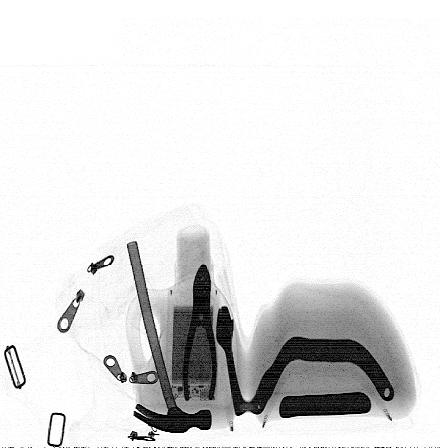Hammer: (126, 239, 212, 432)
Pliers: (183, 263, 217, 404)
Powerbank: (171, 306, 214, 403)
Wrench: (216, 305, 246, 419)
